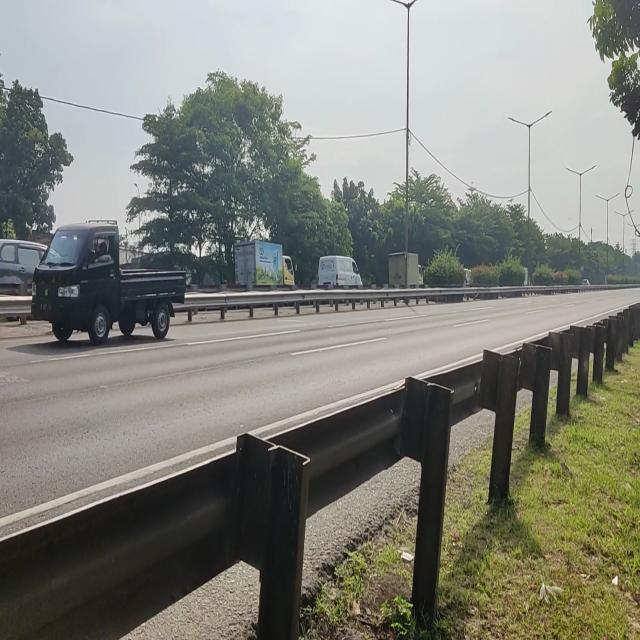Golongan I: (26, 218, 190, 347)
